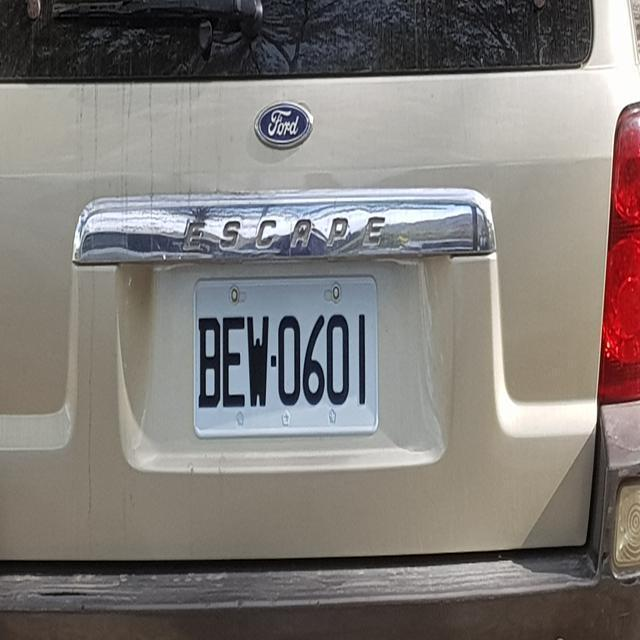plate: (192, 310, 376, 412)
